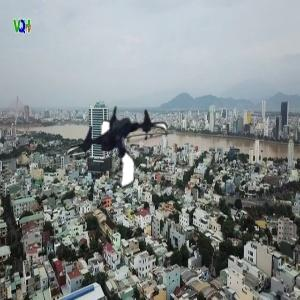drone: (68, 94, 169, 195)
